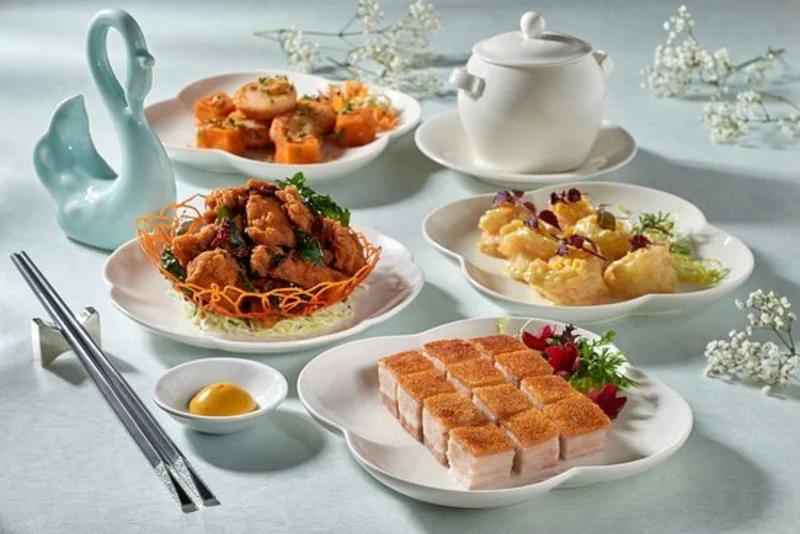Braised Crucian Carp: (297, 313, 697, 507), (421, 183, 752, 323), (103, 222, 418, 352), (146, 70, 417, 183)
